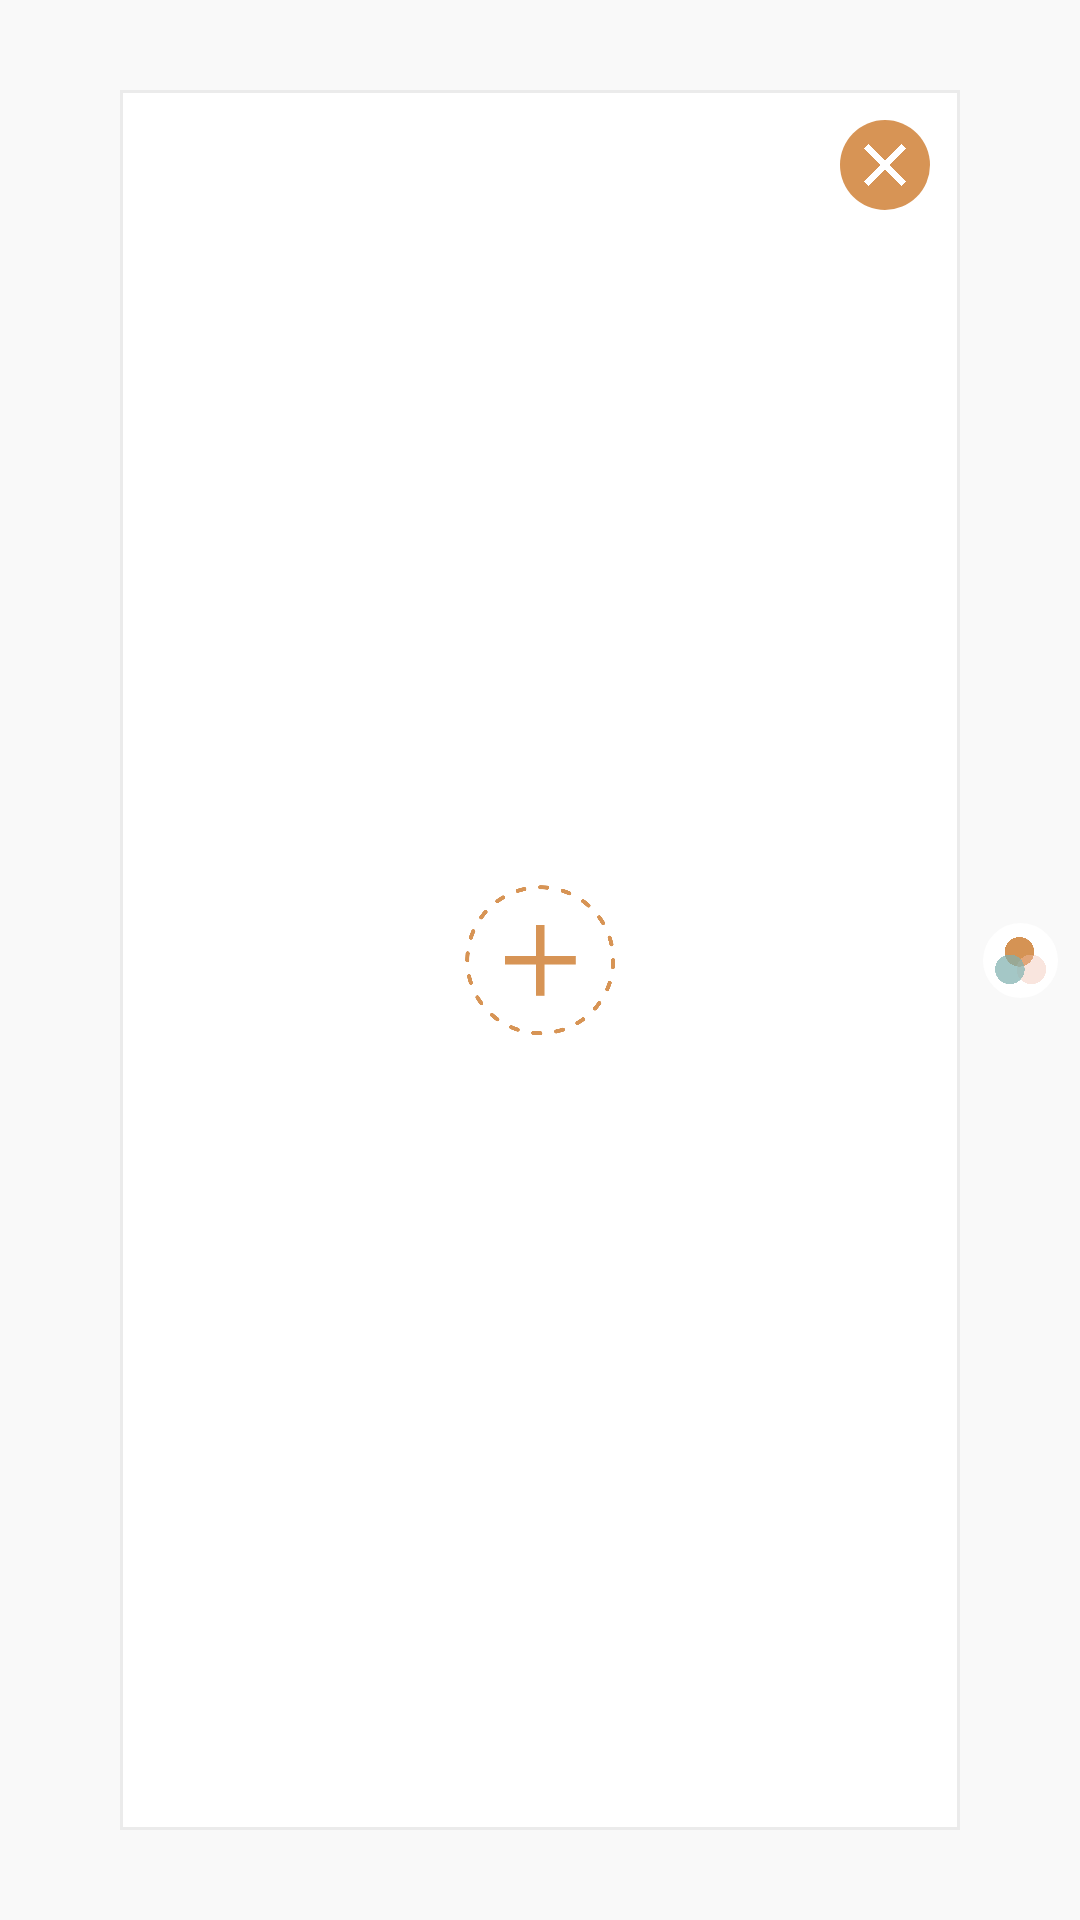

Named icons in this screenshot (1080x1920) and their bounding boxes, bbox=(x1, y1, x2, y2):
add story: bbox=(465, 885, 615, 1035)
three circles: bbox=(995, 937, 1046, 984)
